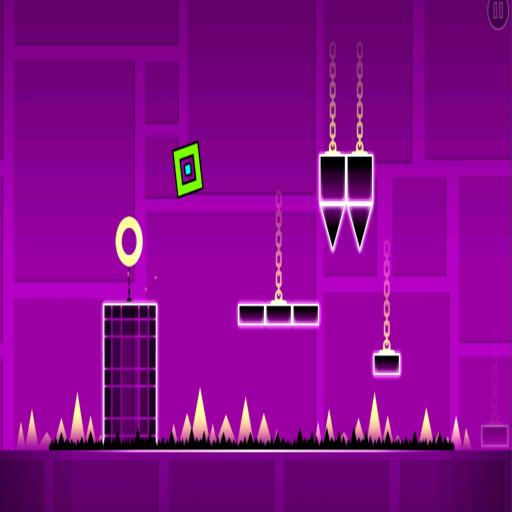block: (102, 299, 160, 444), (317, 153, 375, 204), (236, 304, 322, 325), (374, 350, 402, 382), (482, 425, 508, 449)
player: (173, 142, 203, 197)
spike: (321, 206, 344, 248), (349, 204, 370, 249), (193, 388, 208, 439), (70, 394, 83, 443), (369, 394, 381, 441), (239, 398, 251, 443), (26, 411, 38, 449), (420, 409, 432, 443), (219, 416, 234, 442), (257, 414, 270, 443), (452, 417, 461, 449), (181, 414, 191, 442), (86, 417, 95, 443), (17, 423, 25, 450), (326, 410, 333, 440), (57, 419, 66, 442), (384, 417, 392, 442), (39, 433, 51, 449), (355, 419, 364, 440), (463, 430, 471, 450), (316, 423, 322, 443), (210, 425, 216, 443), (172, 425, 177, 442), (435, 432, 442, 443), (342, 433, 348, 443), (274, 430, 277, 440), (395, 436, 400, 442), (446, 437, 450, 443), (99, 436, 102, 443)
